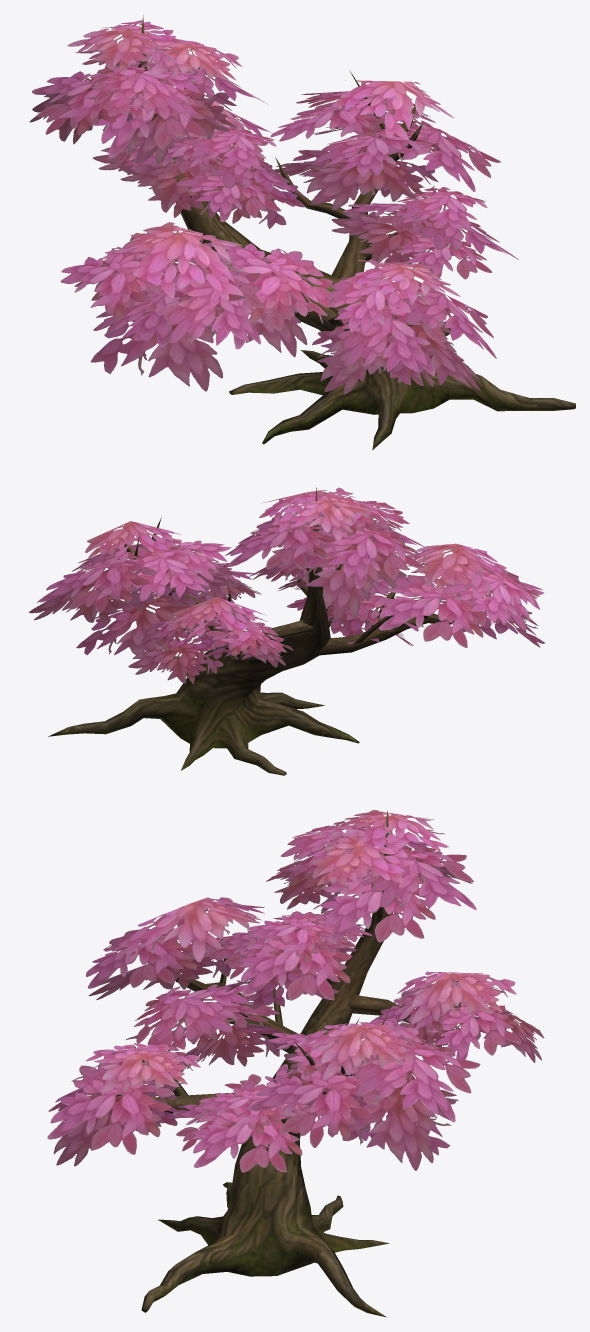
File: S_Tree_Red012.FBX
3 renders of one model, top to bottom at view 1: azimuth 30°, elevation 25°; view 2: azimuth 150°, elevation 25°; view 3: azimuth 270°, elevation 25°, orthographic. The views are drawn at different scales.
Parts seen in each view (by area): view 1: S_Tree_Red012; view 2: S_Tree_Red012; view 3: S_Tree_Red012.
Part boxes in pixels (x1,y1,x2,y2): S_Tree_Red012: [29, 15, 575, 450]; S_Tree_Red012: [29, 487, 544, 775]; S_Tree_Red012: [47, 810, 544, 1317].
Size of the model in its own units: 684 by 453 by 637.
